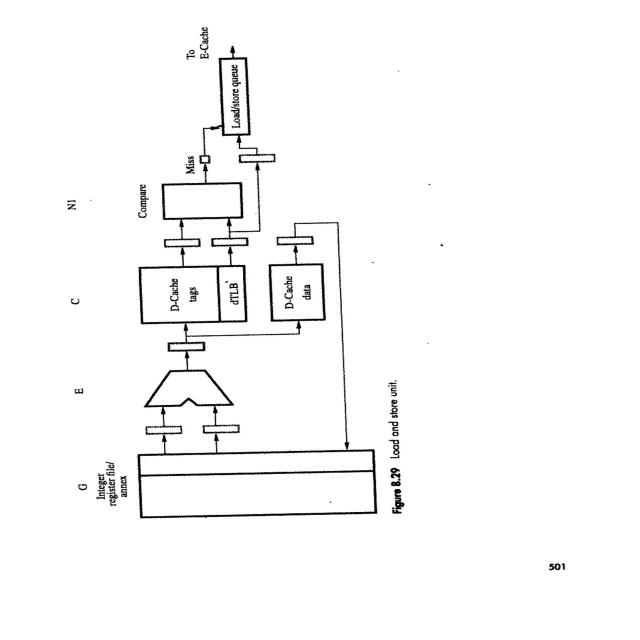diagram: (10, 18, 534, 523)
